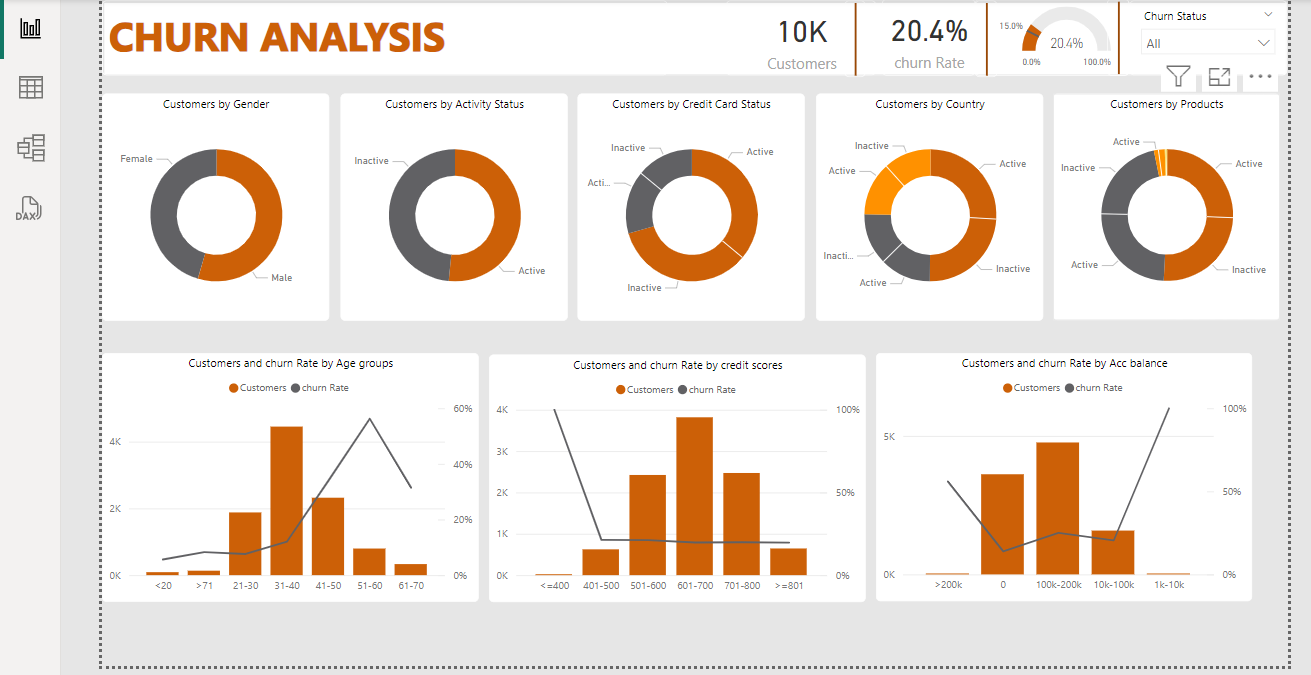

Layout of this report page (visuals, bound fields, positions):
{"tool":"powerbi","page":{"name":"Churn Analysis","canvas":[1280,720],"ordinal":0},"visuals":[{"type":"shape","box":[0,1.6,1279.2,81],"z":0},{"type":"card","fields":{"Values":["Customer Data.Customers"]},"box":[673.6,1.6,161.9,81],"z":1000},{"type":"card","fields":{"Values":["Customer Data.churn Rate"]},"box":[842,0,100.4,82.6],"z":2000},{"type":"donutChart","fields":{"Category":["Customer Data.Gender"],"Y":["Customer Data.Customers"]},"box":[0,101.7,245,245],"z":3000},{"type":"donutChart","title":"Customers by Activity Status ","fields":{"Y":["Customer Data.Customers"],"Series":["Customer Data.Activity Status"],"Category":["Customer Data.Activity Status"]},"box":[256.6,101.7,245,245],"z":4000},{"type":"donutChart","title":"Customers by Credit Card Status","fields":{"Y":["Customer Data.Customers"],"Series":["Customer Data.Activity Status"],"Category":["Customer Data.Credit Card Status"]},"box":[513.3,101.7,245,245],"z":5000},{"type":"donutChart","title":"Customers by Country","fields":{"Y":["Customer Data.Customers"],"Series":["Customer Data.Activity Status"],"Category":["Customer Data.Country"]},"box":[769.9,101.7,245,245],"z":6000},{"type":"donutChart","title":"Customers by Products","fields":{"Y":["Customer Data.Customers"],"Series":["Customer Data.Activity Status"],"Category":["Customer Data.Products"]},"box":[1026.6,102,244.5,244.5],"z":7000},{"type":"lineClusteredColumnComboChart","fields":{"Category":["Customer Data.Age groups"],"Y":["Customer Data.Customers"],"Y2":["Customer Data.churn Rate"]},"box":[0,382.1,406.4,268.8],"z":8000},{"type":"lineClusteredColumnComboChart","fields":{"Y":["Customer Data.Customers"],"Y2":["Customer Data.churn Rate"],"Category":["credit Score Groups.credit scores"]},"box":[417.8,383.8,406.4,267.2],"z":9000},{"type":"lineClusteredColumnComboChart","fields":{"Y":["Customer Data.Customers"],"Y2":["Customer Data.churn Rate"],"Category":["Customer Data.Acc balance"]},"box":[835.6,381.4,406,268],"z":10000},{"type":"slicer","fields":{"Values":["Customer Data.Churn Status"]},"box":[1109.2,1.6,170,81],"z":11000},{"type":"gauge","fields":{"Y":["Customer Data.churn Rate"],"MinValue":["Min(Customer Data.Min Churn Rate)"],"MaxValue":["Max(Customer Data.Max Churn Rate)"],"TargetValue":["Max(Customer Data.Target Churn Rate)"]},"box":[942.4,0,166.8,82.6],"z":12000},{"type":"textbox","box":[0,1.6,610.4,81],"z":12001},{"type":"shape","box":[801.5,1.6,22.7,82.6],"z":12002},{"type":"shape","box":[942.4,1.6,24.3,82.6],"z":12003},{"type":"shape","box":[1084.9,0,24.3,82.6],"z":12004}]}

Visuals, with their boxes on the page's 1280x720 design canvas (x1, y1, x2, y2). These are canvas units, not pixel positions in the 1311x675 screenshot, which may show the page scaled, cropped or inside an application window:
shape: 0, 2, 1279, 83
card - Customer Data.Customers: 674, 2, 836, 83
card - Customer Data.churn Rate: 842, 0, 942, 83
donutChart - Customer Data.Gender x Customer Data.Customers: 0, 102, 245, 347
"Customers by Activity Status " donutChart: 257, 102, 502, 347
"Customers by Credit Card Status" donutChart: 513, 102, 758, 347
"Customers by Country" donutChart: 770, 102, 1015, 347
"Customers by Products" donutChart: 1027, 102, 1271, 346
lineClusteredColumnComboChart - Customer Data.Age groups x Customer Data.Customers: 0, 382, 406, 651
lineClusteredColumnComboChart - Customer Data.Customers x Customer Data.churn Rate: 418, 384, 824, 651
lineClusteredColumnComboChart - Customer Data.Customers x Customer Data.churn Rate: 836, 381, 1242, 649
slicer - Customer Data.Churn Status: 1109, 2, 1279, 83
gauge - Customer Data.churn Rate x Min(Customer Data.Min Churn Rate): 942, 0, 1109, 83
textbox: 0, 2, 610, 83
shape: 802, 2, 824, 84
shape: 942, 2, 967, 84
shape: 1085, 0, 1109, 83
